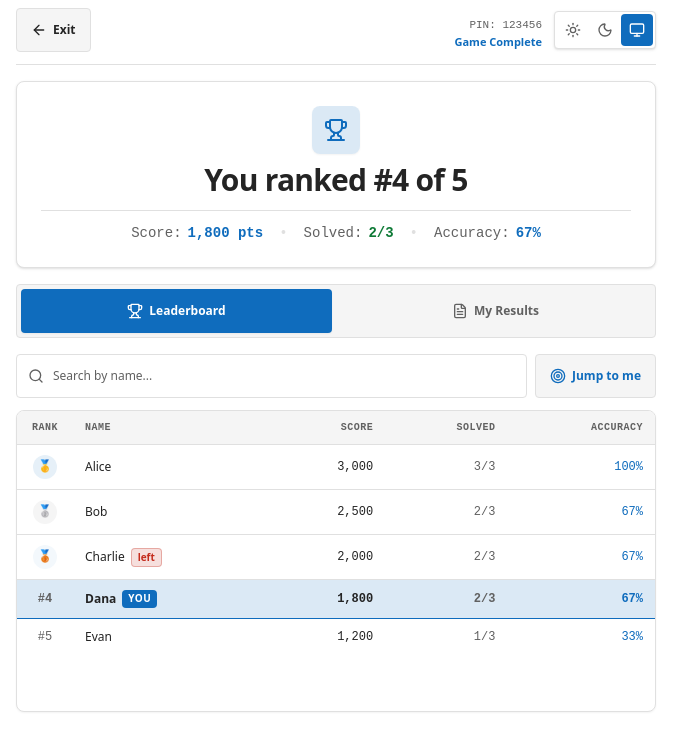
Test case: FinalLeaderboard Component - F2 Client Tests › filters players dynamically via the search box
Step 1. Type "alice" into the field named "search players by name" → (272, 376), box [16,354,527,398]
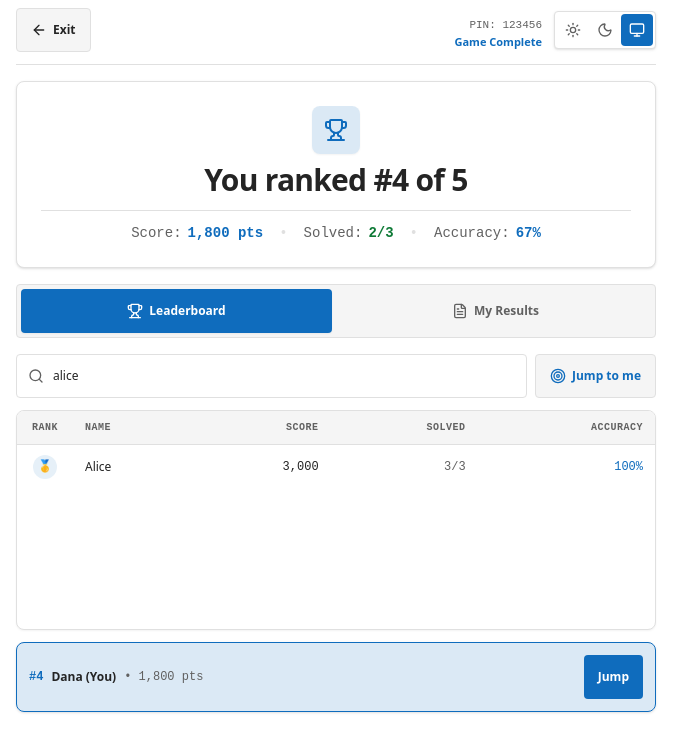
Expected: the text "Alice" is shown, [85,459,111,475]
Expected: the text "Bob" is gone
Expected: the text "Charlie" is gone
# Clear search
Step 2. Clear the field named "search players by name" → (272, 376), box [16,354,527,398]
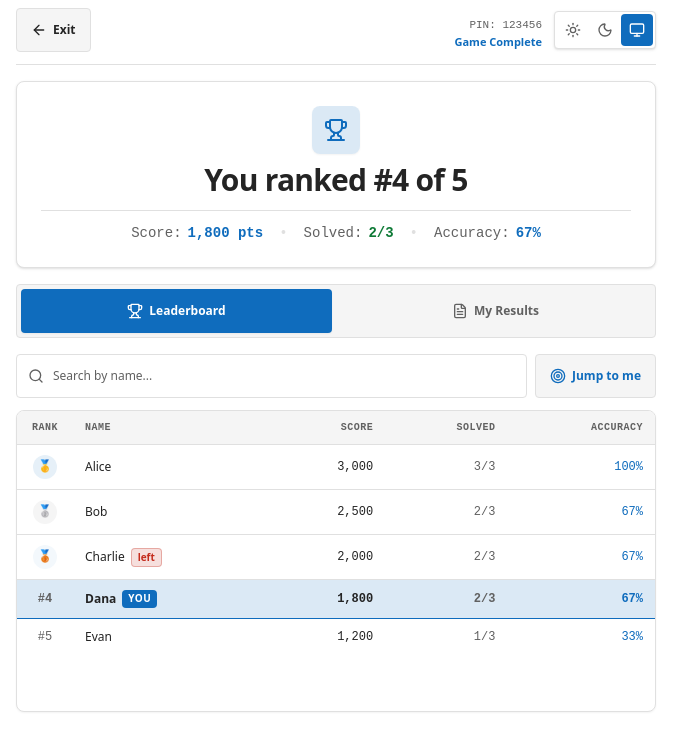
Expected: the text "Bob" is shown, [85,504,108,520]
